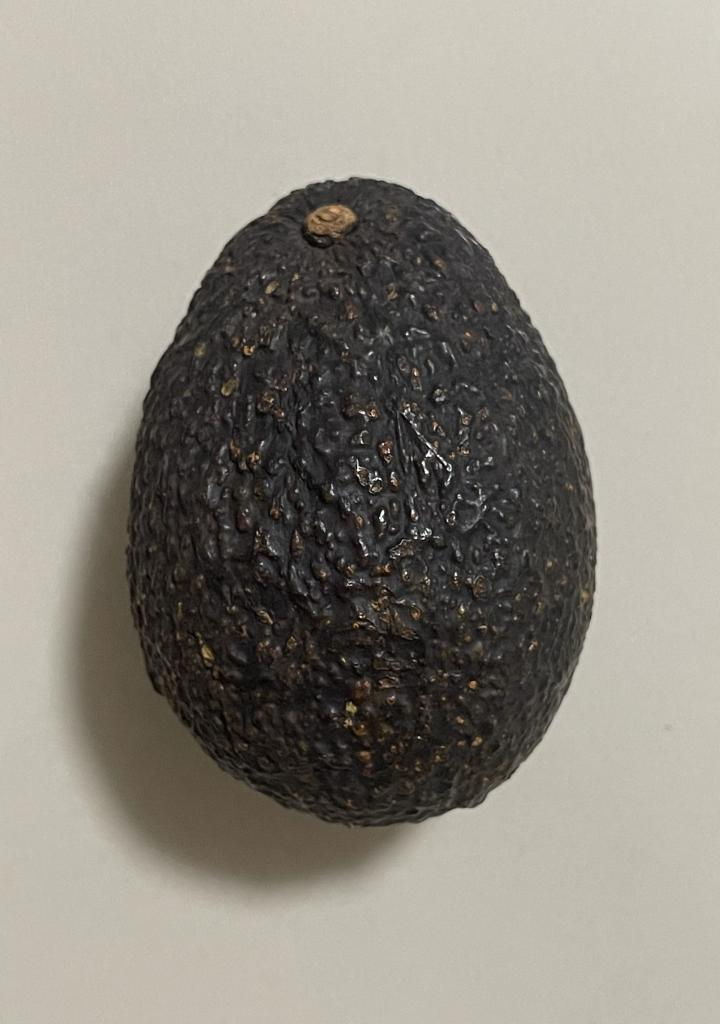Level2: (119, 165, 608, 838)
